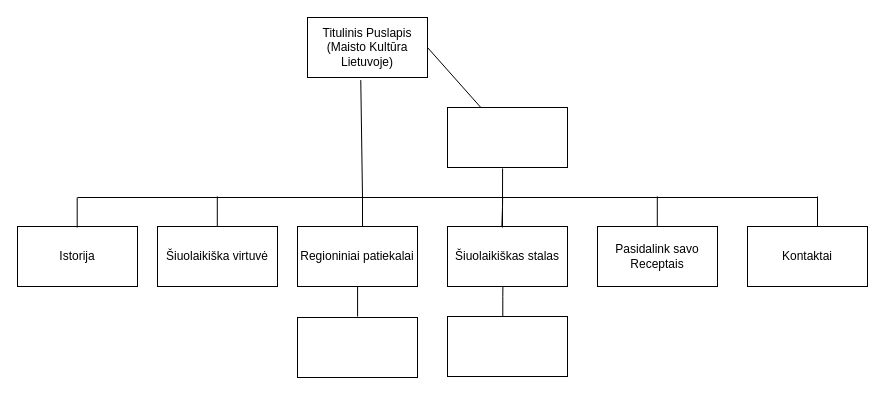
Image size: 885x395. Some labels were removed from this diagram. Each missing label, with the centre of its shape:
Galerija: the point at 507,346
Nuorodos: the point at 507,137
Popiliariausi Restoranai: the point at 357,347
